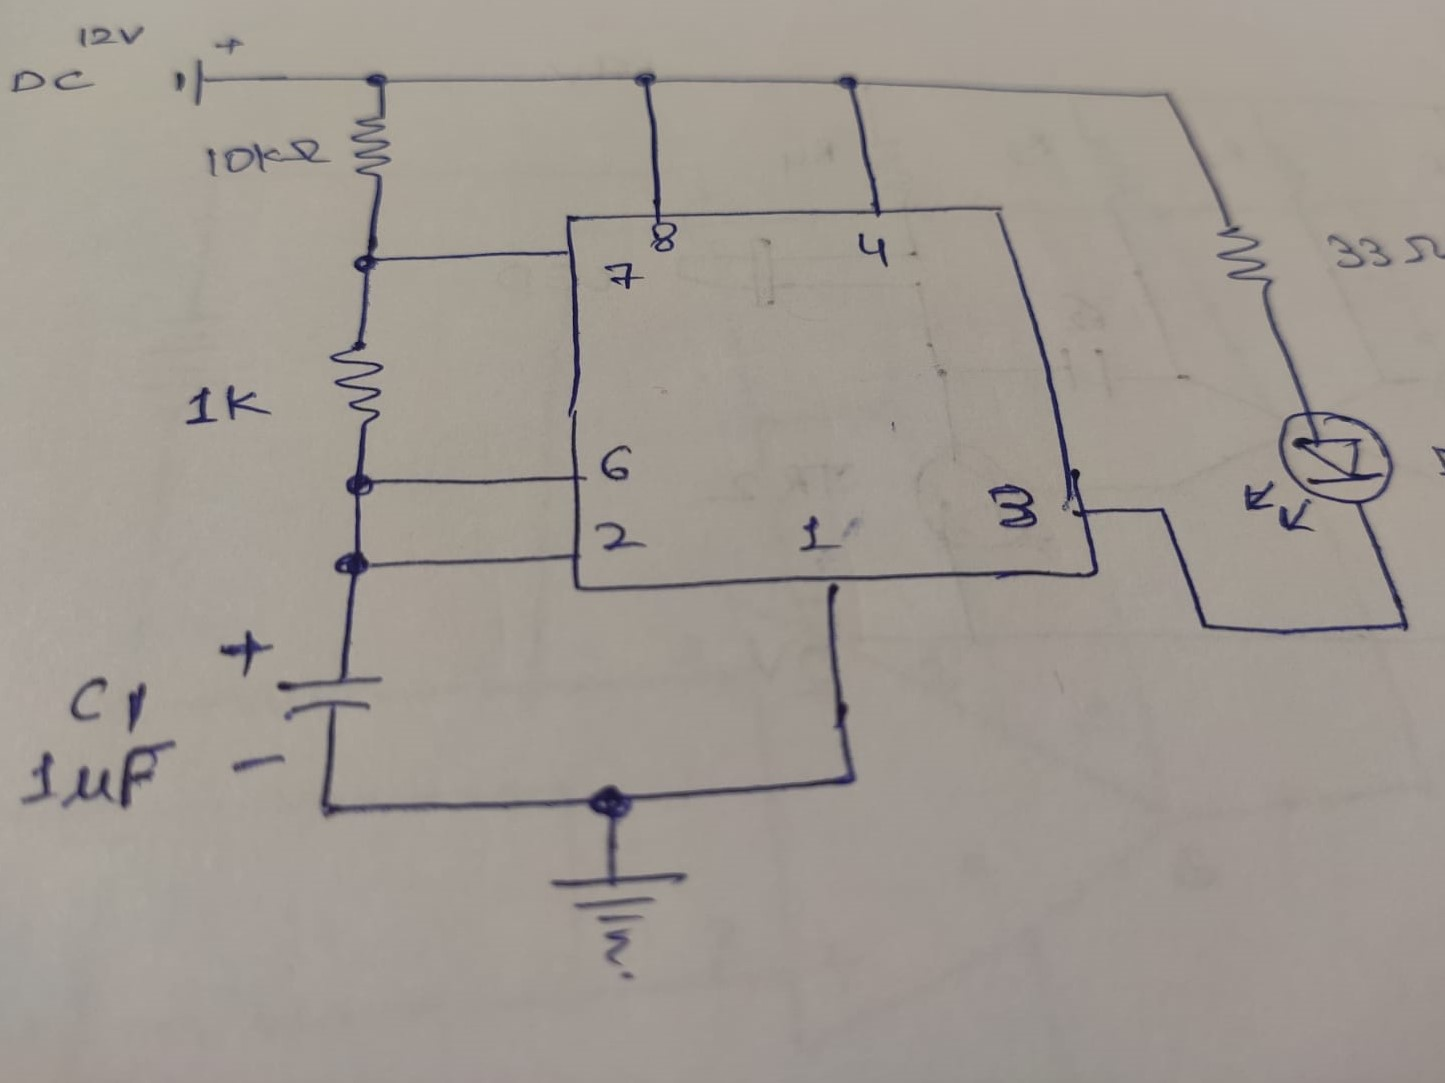capacitor.polarized: (213, 625, 394, 777)
diode.light_emitting: (1239, 404, 1394, 534)
gnd: (550, 866, 693, 979)
integrated_circuit: (558, 204, 1106, 596)
junction: (823, 759, 869, 796), (587, 785, 639, 818), (825, 71, 873, 102), (309, 791, 349, 825), (345, 468, 379, 502), (335, 548, 371, 580), (1150, 81, 1182, 114), (631, 65, 666, 96), (360, 66, 393, 97), (350, 247, 383, 278), (1386, 607, 1420, 637), (1149, 497, 1178, 531), (1192, 610, 1222, 638)
resistor: (327, 339, 387, 420), (1215, 224, 1278, 290), (347, 111, 394, 180)
text: (28, 678, 165, 805), (206, 137, 324, 176), (1331, 230, 1442, 268), (189, 382, 276, 425), (8, 64, 86, 96), (992, 481, 1039, 529), (75, 19, 144, 49), (589, 514, 641, 553), (854, 228, 893, 267), (795, 511, 833, 549), (596, 441, 630, 483), (598, 259, 639, 294), (649, 217, 679, 257)
voltage.dc: (170, 34, 250, 106)
